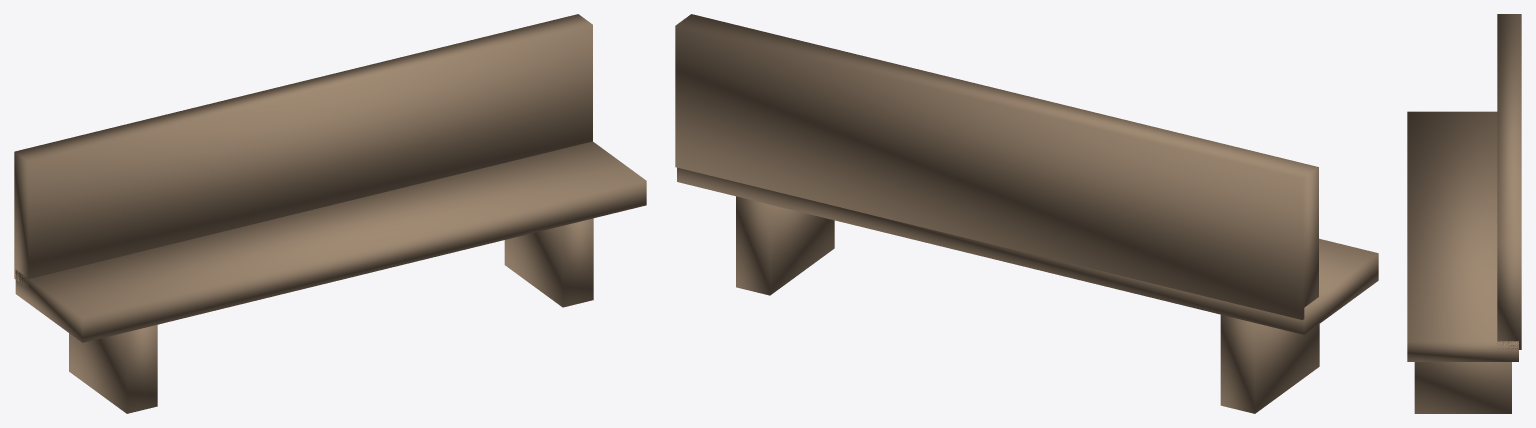
The model's file is church_pew__squat.glb.
The picture shows the model from 3 angles, left to right: view 1: azimuth 30°, elevation 25°; view 2: azimuth 150°, elevation 25°; view 3: azimuth 270°, elevation 25°; orthographic projection. The views are drawn at different scales.
Visible parts, largest first — view 1: world; view 2: world; view 3: world.
Part boxes in pixels (<box>): world: <box>14,14,646,413</box>; world: <box>675,14,1378,413</box>; world: <box>1407,14,1521,413</box>.
Bounding box in the file's own units: 2.42 × 0.9324 × 0.5076.
